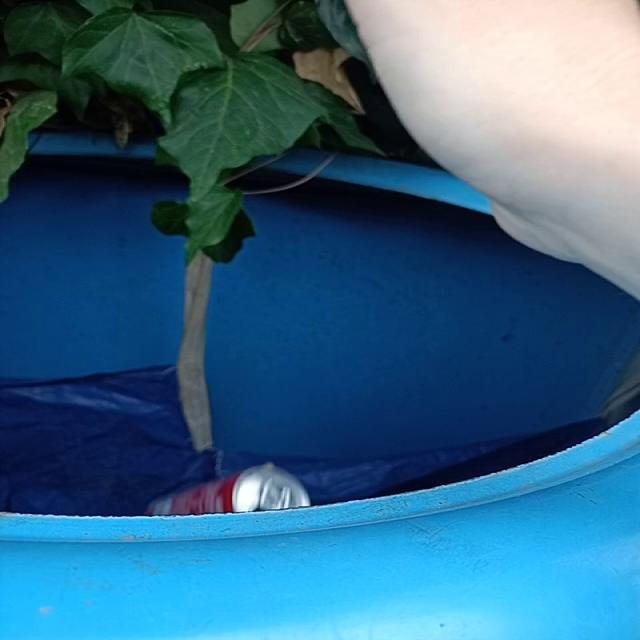bin: (0, 156, 639, 640)
metal: (147, 463, 311, 516)
